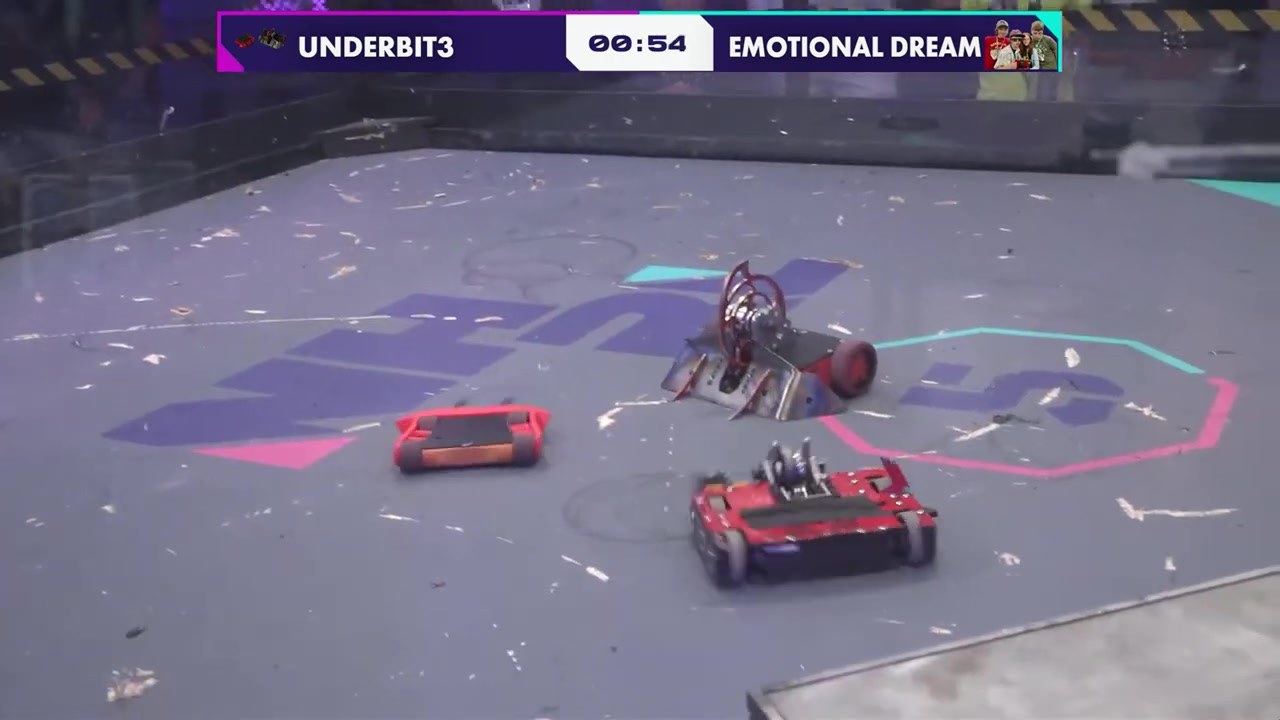combatbot: (685, 440, 941, 577), (654, 314, 879, 422)
housebot: (748, 565, 1280, 720)
minibot: (391, 399, 552, 476)
